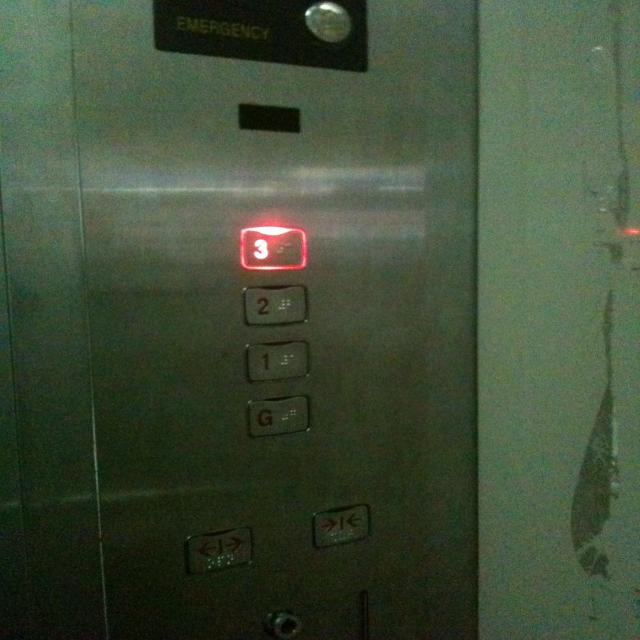1: (242, 336, 315, 382)
2: (239, 280, 312, 328)
3: (235, 224, 312, 273)
G: (241, 392, 314, 439)
close: (309, 499, 372, 551)
keyhole: (255, 603, 317, 640)
open: (183, 523, 255, 577)
